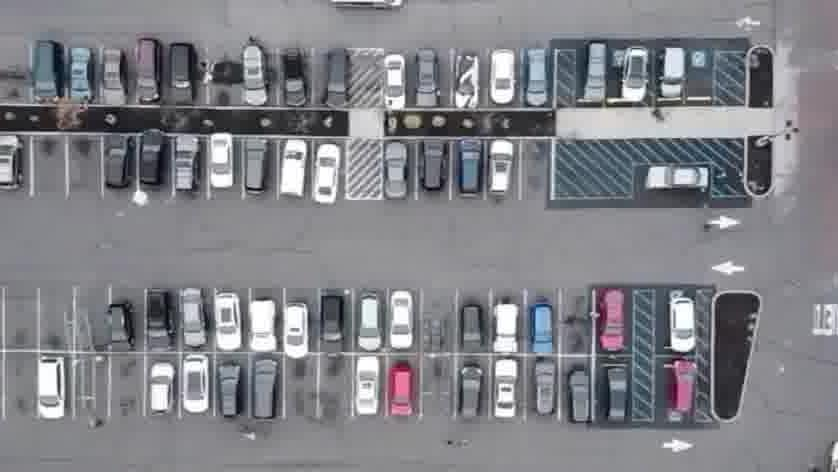car: (348, 287, 390, 349), (348, 355, 386, 422), (35, 358, 70, 428), (28, 39, 64, 104), (167, 42, 202, 107), (306, 142, 341, 207), (636, 159, 707, 191), (131, 35, 162, 104), (100, 131, 136, 190), (492, 360, 525, 424), (249, 364, 281, 430), (177, 355, 211, 417), (480, 139, 513, 202), (136, 128, 169, 191), (213, 361, 245, 424), (316, 293, 347, 358), (321, 50, 352, 114), (274, 138, 307, 198), (276, 301, 310, 359), (141, 289, 172, 352), (148, 360, 179, 423), (239, 138, 271, 199), (597, 285, 627, 350), (387, 285, 416, 350), (239, 44, 267, 111), (456, 364, 487, 424), (386, 358, 417, 418), (246, 299, 278, 357), (615, 47, 648, 103), (212, 294, 242, 355), (378, 144, 407, 206), (415, 141, 445, 200), (453, 139, 482, 200), (488, 301, 519, 358), (489, 46, 518, 106), (409, 51, 438, 111), (565, 365, 593, 427), (657, 46, 688, 102), (169, 134, 198, 193), (670, 356, 699, 415), (579, 44, 608, 102), (66, 45, 95, 103), (106, 302, 136, 358), (603, 362, 630, 424), (667, 292, 695, 351), (522, 46, 549, 107), (277, 50, 303, 113), (380, 56, 407, 116), (181, 287, 206, 351), (450, 54, 478, 111), (530, 359, 557, 418), (207, 130, 233, 191), (528, 302, 557, 355), (101, 46, 126, 107), (0, 135, 22, 193), (458, 305, 482, 358)
